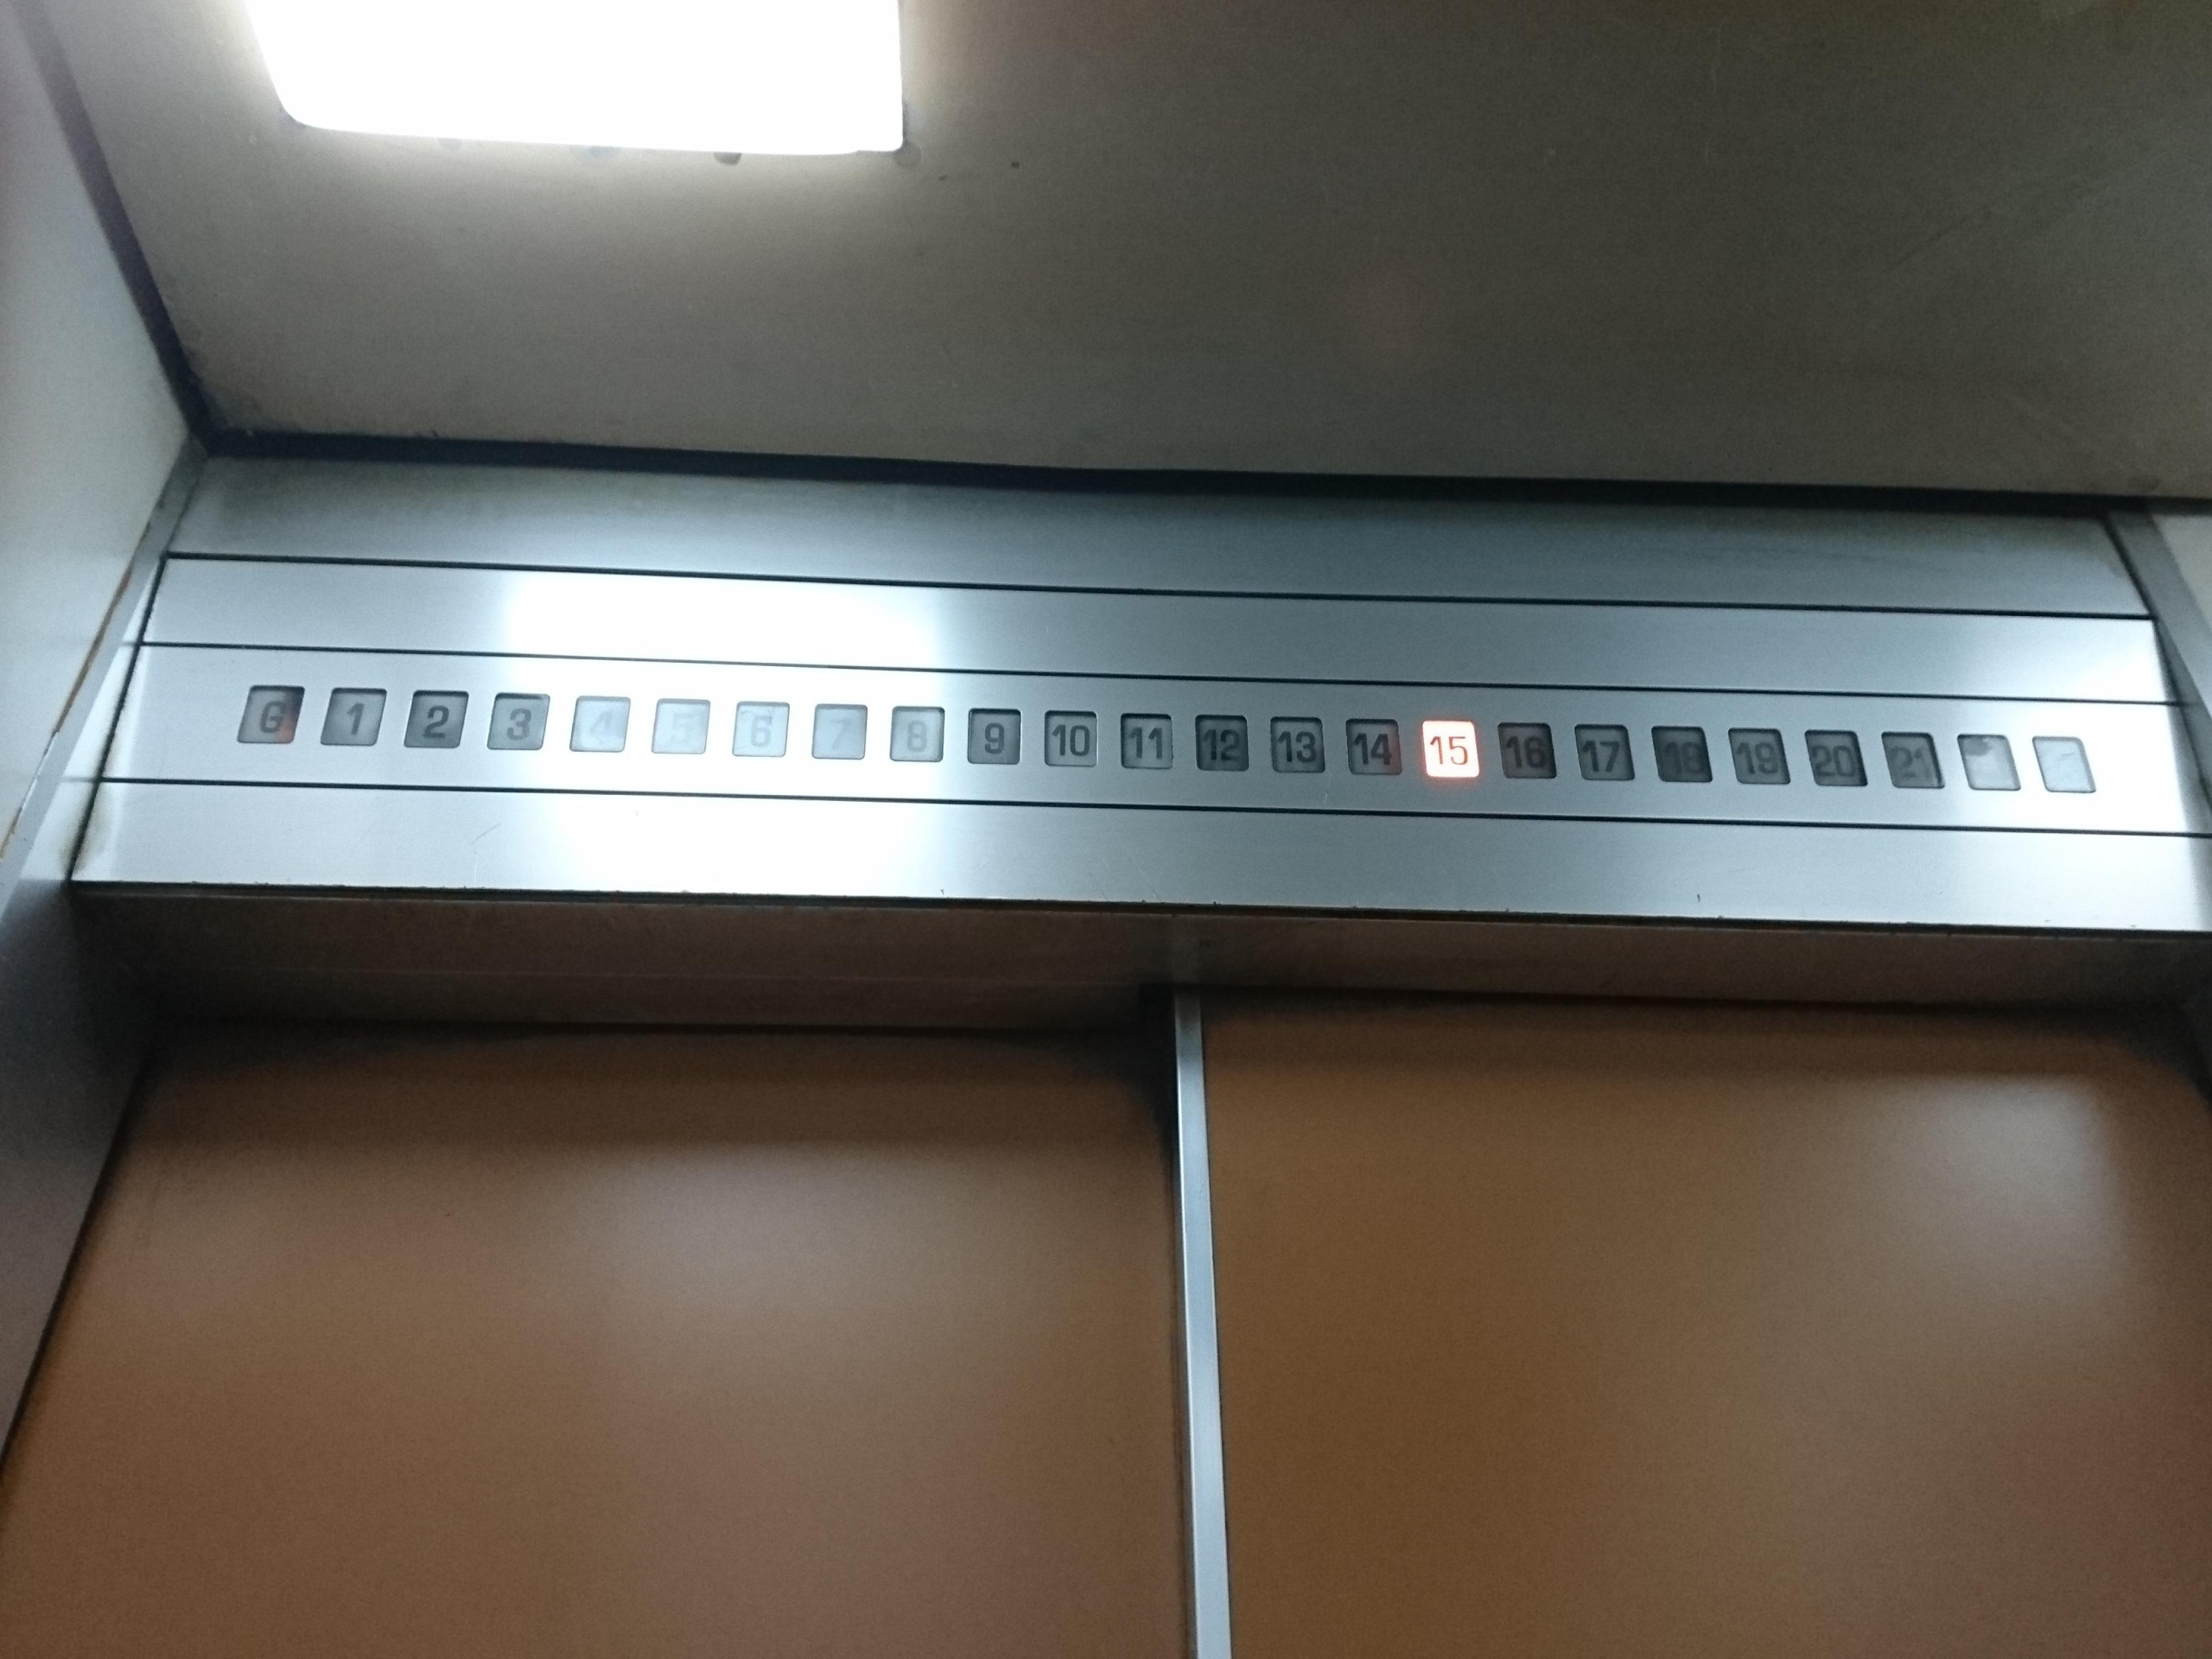1: (315, 681, 388, 749)
10: (1040, 708, 1101, 769)
11: (1120, 713, 1172, 769)
12: (1191, 711, 1252, 774)
13: (1266, 714, 1327, 777)
14: (1341, 716, 1406, 779)
15: (1418, 716, 1482, 782)
16: (1494, 718, 1562, 784)
17: (1571, 720, 1639, 782)
18: (1648, 721, 1716, 788)
19: (1724, 723, 1792, 789)
2: (399, 685, 472, 751)
20: (1797, 725, 1871, 791)
21: (1878, 727, 1946, 791)
3: (486, 692, 550, 749)
4: (568, 695, 631, 751)
5: (648, 695, 712, 756)
6: (728, 699, 791, 758)
7: (806, 699, 871, 763)
8: (885, 702, 946, 765)
9: (963, 704, 1022, 767)
G: (232, 681, 307, 748)
empty: (2029, 730, 2101, 796), (1952, 730, 2022, 793)
